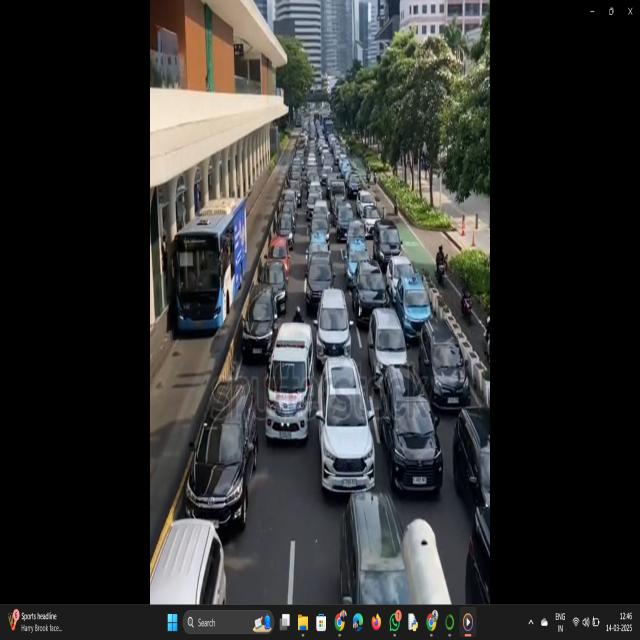Ambulance: (262, 307, 316, 441)
